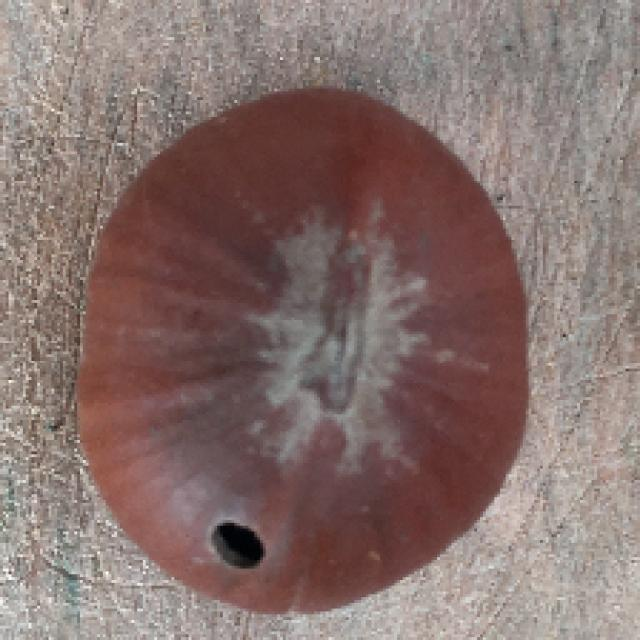damagedHazelnut: (74, 88, 532, 619)
